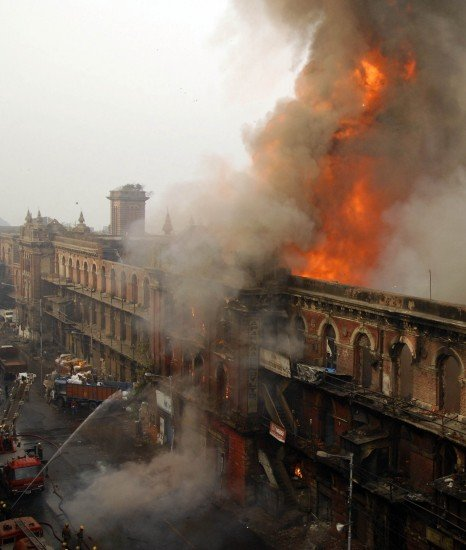fire: (294, 18, 426, 292)
